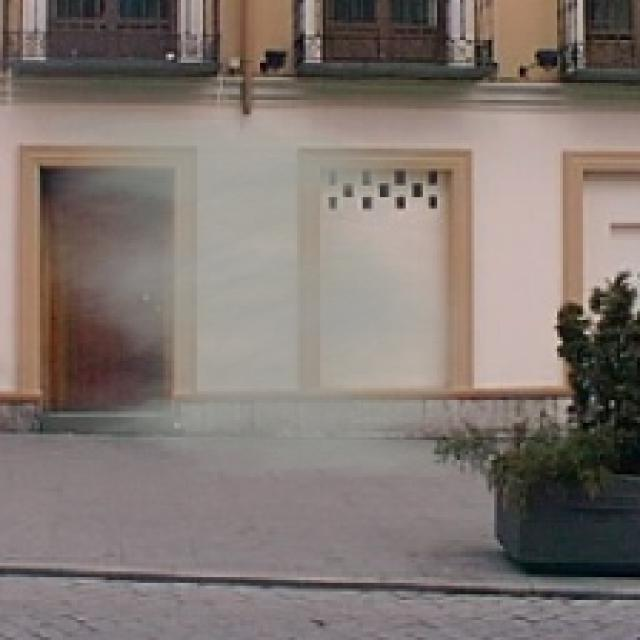Smoke: (43, 112, 463, 477)
